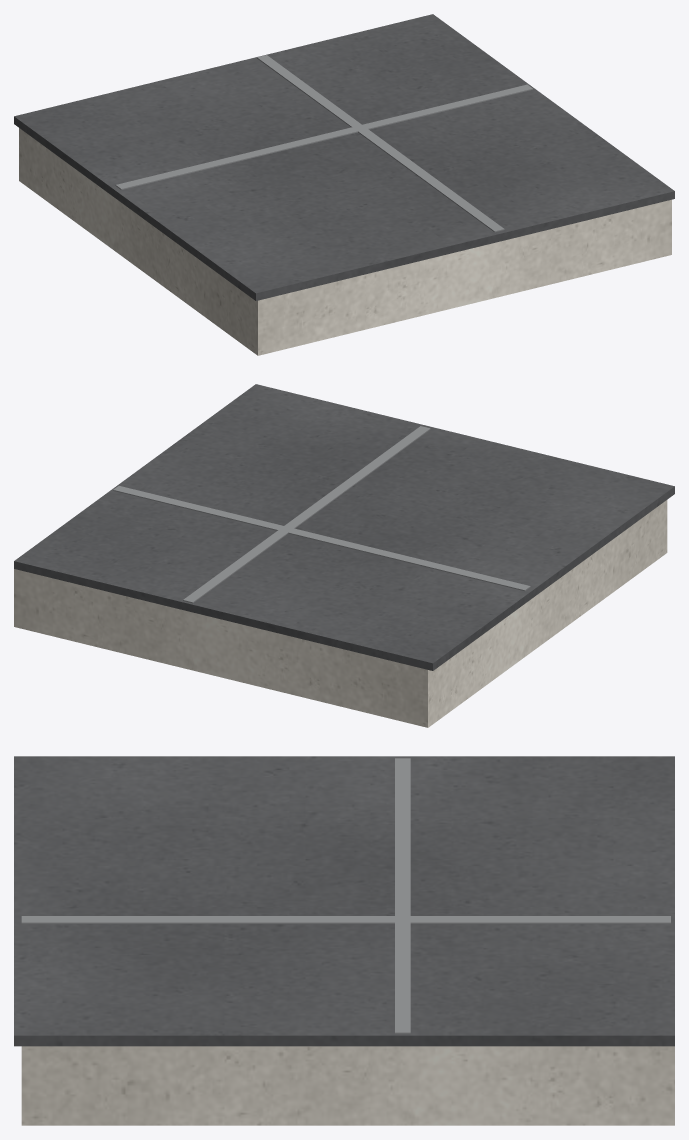
Rendered from floor_membrane_r_e0110.glb.
3 renders of one model, top to bottom at view 1: azimuth 30°, elevation 25°; view 2: azimuth 150°, elevation 25°; view 3: azimuth 270°, elevation 25°, orthographic. The views are drawn at different scales.
Parts seen in each view (by area): view 1: floor_membrane_r_e0110_membrane, floor_membrane_r_e0110_plaster, floor_membrane_r_e0110_seam; view 2: floor_membrane_r_e0110_membrane, floor_membrane_r_e0110_plaster, floor_membrane_r_e0110_seam; view 3: floor_membrane_r_e0110_membrane, floor_membrane_r_e0110_plaster, floor_membrane_r_e0110_seam.
Boxes of the visible parts, bbox=[...] form: floor_membrane_r_e0110_membrane: bbox=[14, 14, 674, 300]; floor_membrane_r_e0110_plaster: bbox=[19, 128, 671, 355]; floor_membrane_r_e0110_seam: bbox=[115, 55, 532, 232]; floor_membrane_r_e0110_membrane: bbox=[14, 384, 674, 670]; floor_membrane_r_e0110_plaster: bbox=[14, 500, 667, 727]; floor_membrane_r_e0110_seam: bbox=[113, 426, 530, 603]; floor_membrane_r_e0110_membrane: bbox=[14, 756, 674, 1046]; floor_membrane_r_e0110_plaster: bbox=[21, 1046, 674, 1125]; floor_membrane_r_e0110_seam: bbox=[21, 758, 670, 1033].
Bounding box in the file's own units: 1.7 × 0.259 × 1.7.
Materials: 3 (2 with a texture image).
